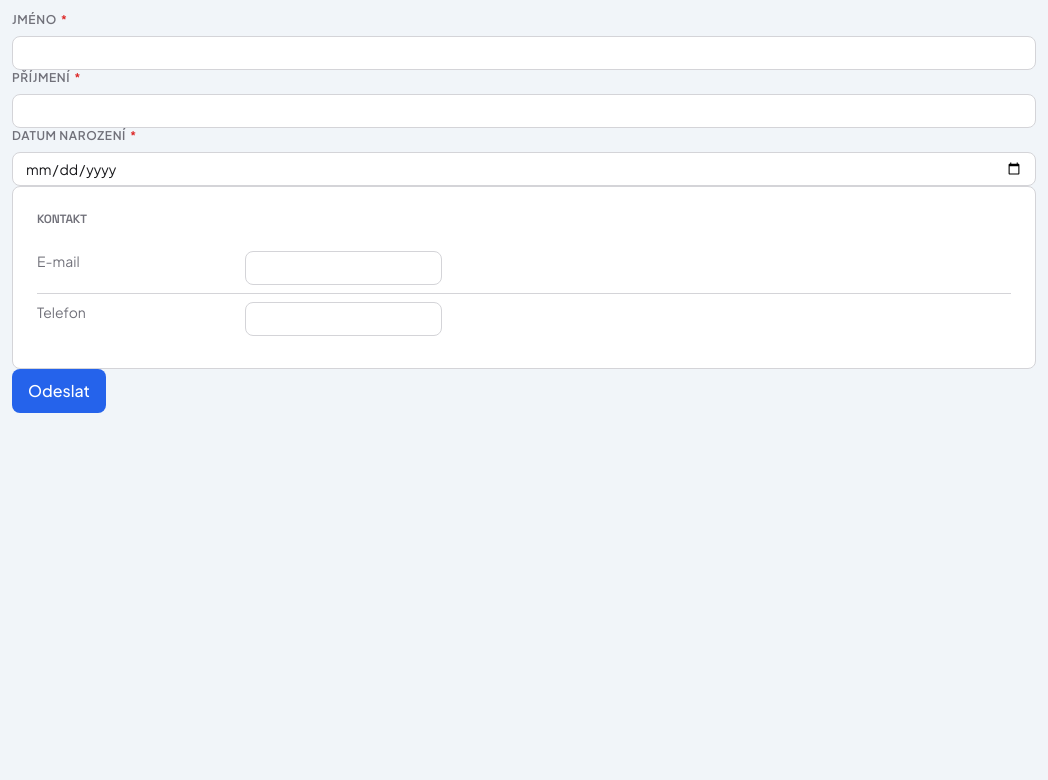
it: member registration form validation › rejects a malformed e-mail
Type "Karel" into the field labelled "Jméno*" at [524, 53], box [12, 36, 1036, 70]
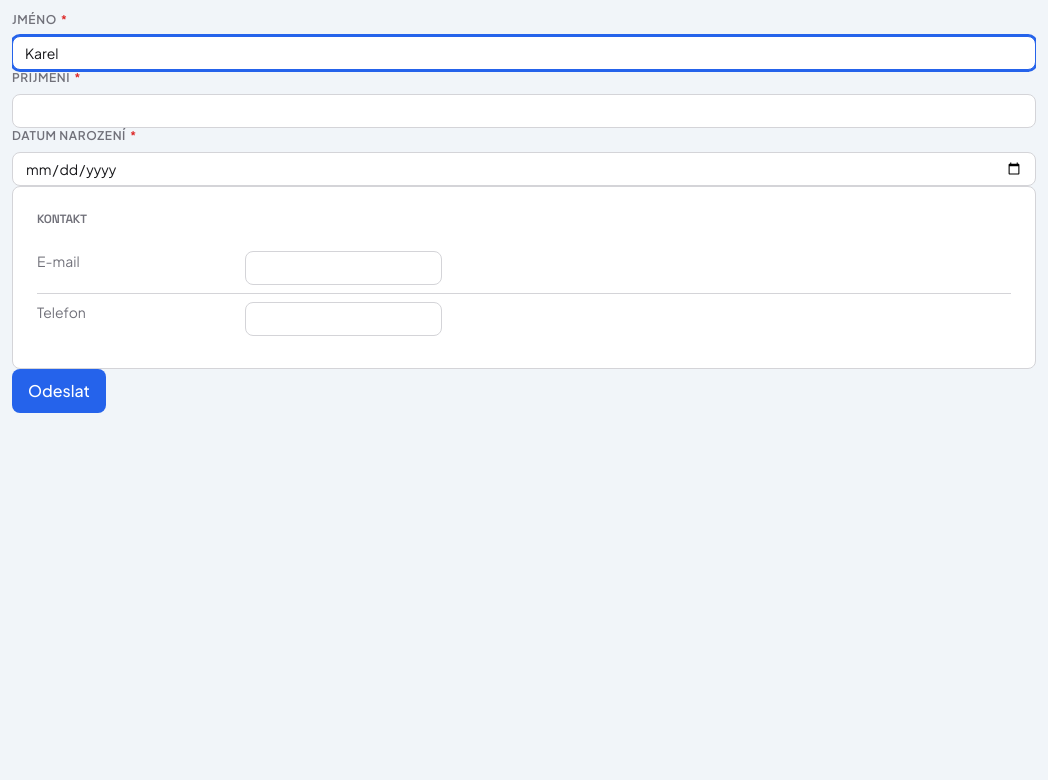
Type "Malý" into the field labelled "Příjmení*" at [524, 111], box [12, 94, 1036, 128]
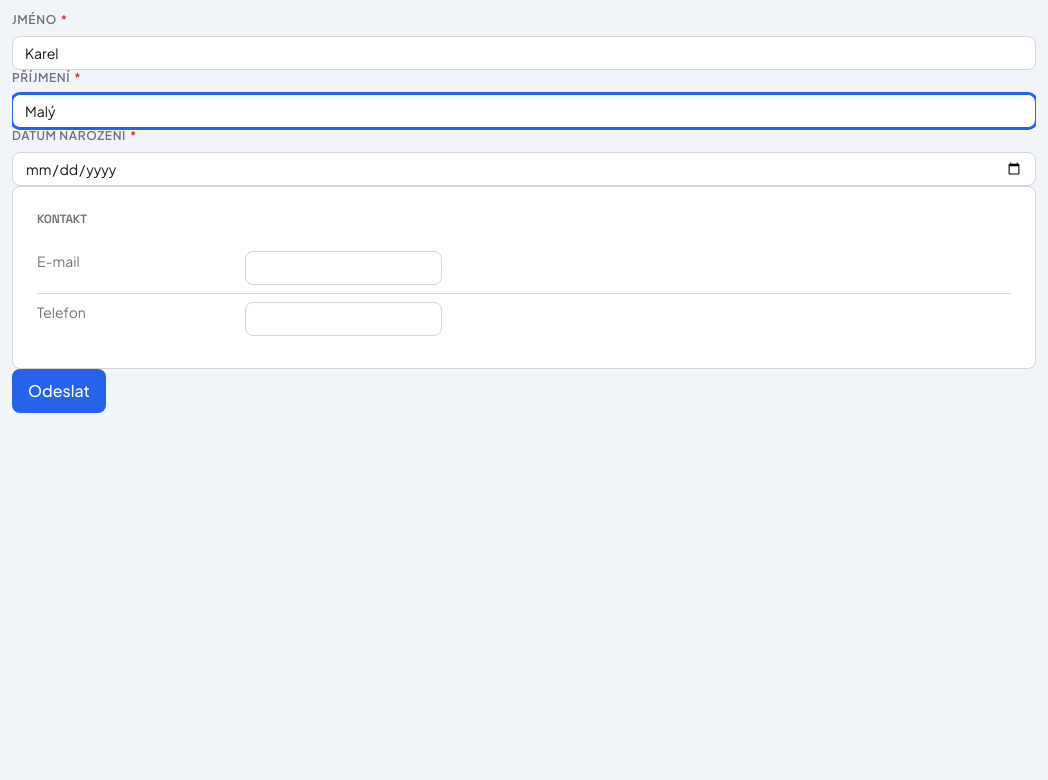
Type "1985-01-01" into the date field labelled "Datum narození*" at [524, 169], box [12, 152, 1036, 186]
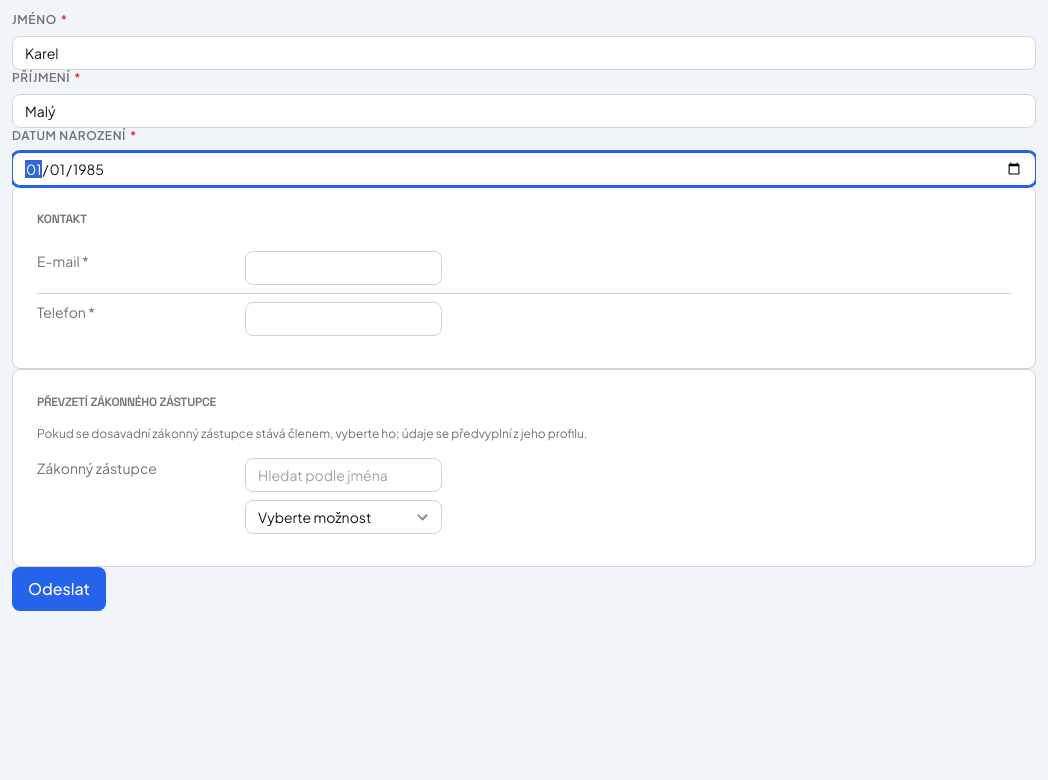
Type "not-an-email" into the field next to "E-mail *" at [344, 268], box [245, 251, 442, 285]
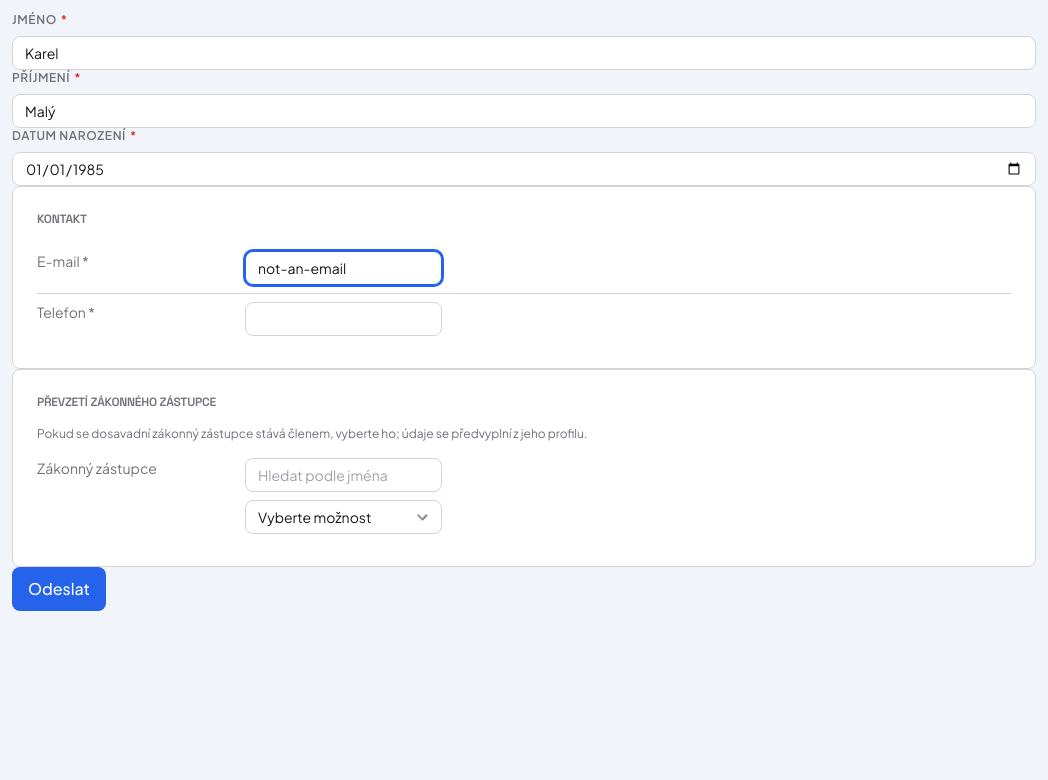
Click the button "Odeslat" at [59, 589], box [12, 567, 106, 611]
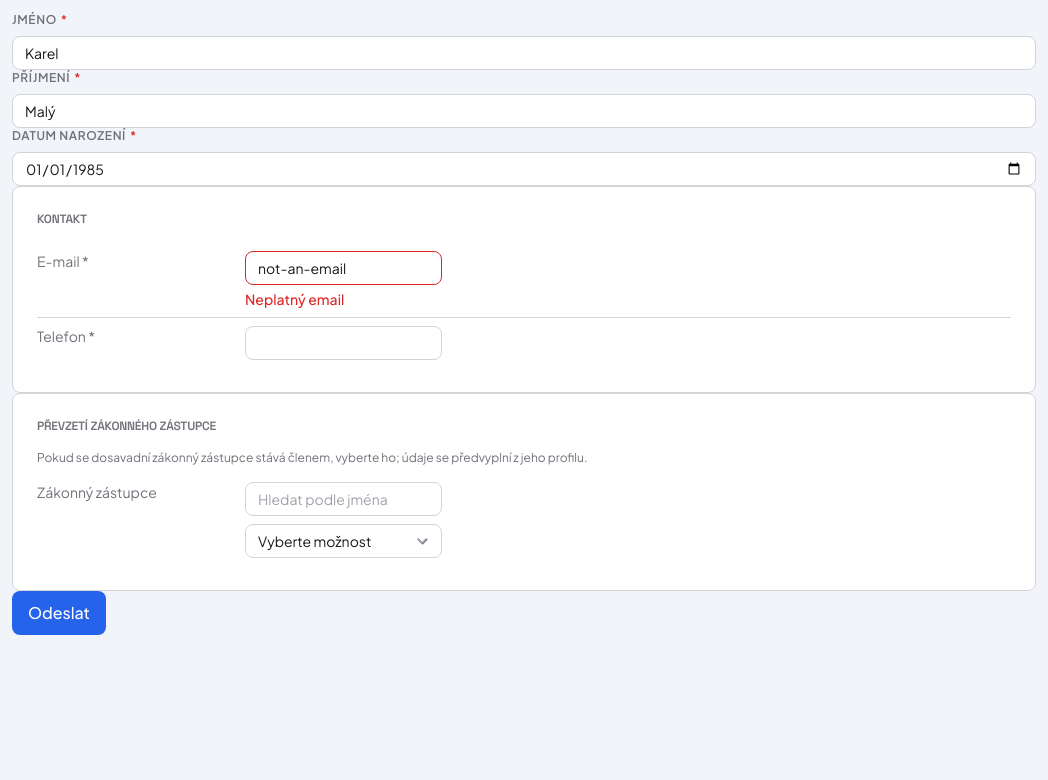
Expected: the text "Neplatný email" is shown, [245, 290, 344, 308]
